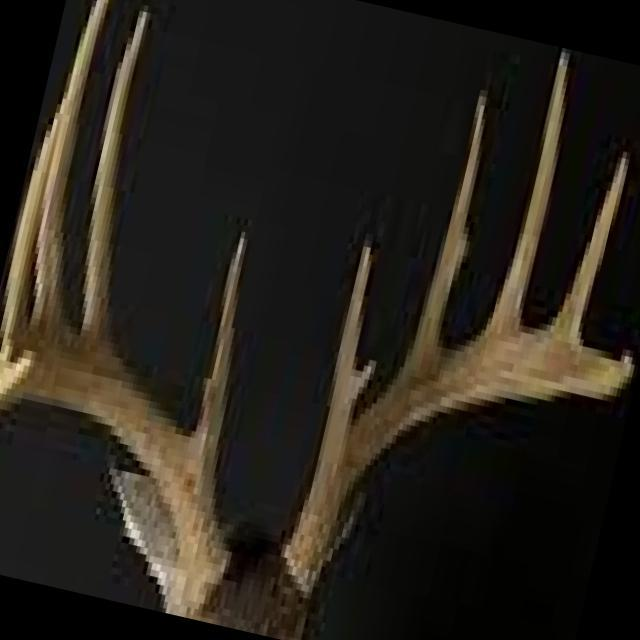E1: (352, 358, 379, 404)
L-F: (281, 330, 635, 603)
L-G1: (305, 233, 376, 498)
L-G2: (398, 83, 490, 371)
L-G3: (479, 50, 572, 333)
L-G4: (539, 145, 632, 343)
R-F: (0, 339, 231, 617)
R-G1: (187, 228, 250, 481)
R-G2: (77, 1, 153, 354)
R-G3: (27, 0, 113, 336)
R-G4: (0, 94, 65, 340)
